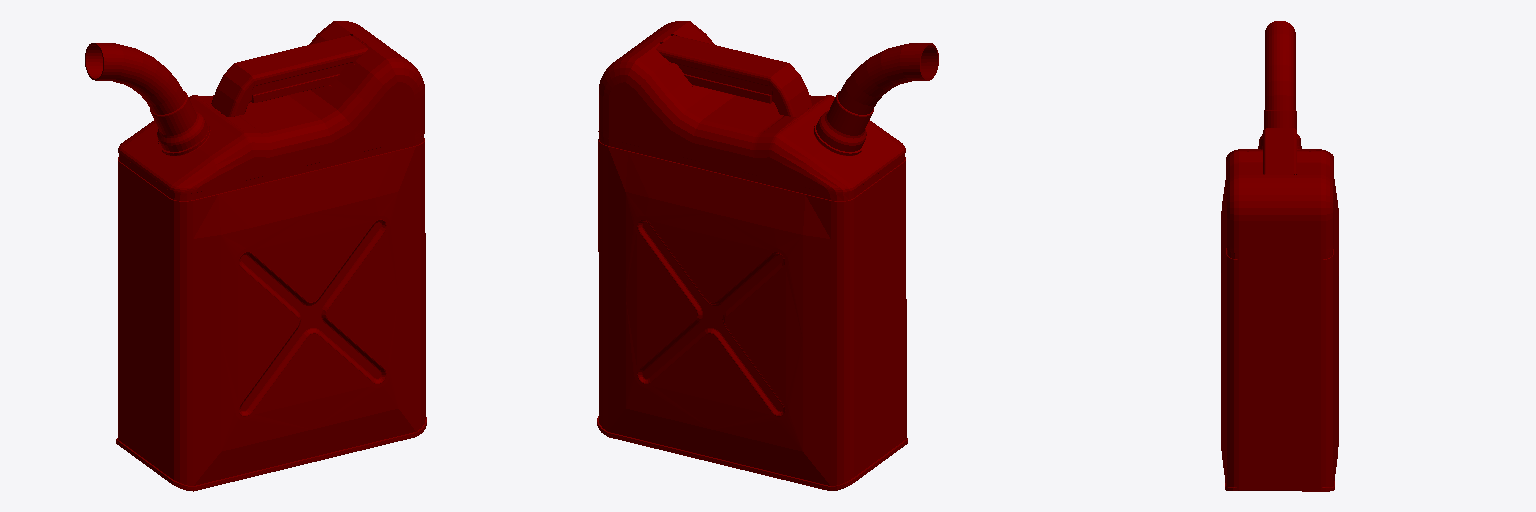
robot.urdf — apple:
<?xml version="1.0" encoding="utf-8"?>
<robot name="apple">
  <link name="base_link">
    <contact>
      <lateral_friction value="0.5"/>
      <rolling_friction value="0.0"/>
      <contact_cfm value="0.0"/>
      <contact_erp value="1.0"/>
    </contact>
    <inertial>
      <origin rpy="0 0 0" xyz="0 0 0"/>
      <mass value=".1"/>
      <inertia ixx="0" ixy="0" ixz="0" iyy="0" iyz="0" izz="0"/>
    </inertial>
    <visual>
      <origin rpy="1.57 0 0" xyz="0 0 0"/>
      <geometry>
        <mesh filename="models/meshes/gasoline/gasoline.obj" scale="8 8 8"/>
      </geometry>
      <material name="hi">
        <color rgba="0.5 0 0 1"/>
      </material>
    </visual>
    <collision>
      <origin rpy="1.57 0 0" xyz="0 0 0"/>
      <geometry>
        <mesh filename="models/meshes/gasoline/gasoline.obj" scale="8 8 8"/>
      </geometry>
    </collision>
  </link>
</robot>

--- Render facts (derived) ---
Views: 3 orthographic renders of the robot side by side, from view 1: azimuth 30°, elevation 25°; view 2: azimuth 150°, elevation 25°; view 3: azimuth 270°, elevation 25°.
Robot: apple — 1 links, 0 joints (none); root link base_link; default pose: every joint at zero.
Visible links, largest first — view 1: base_link; view 2: base_link; view 3: base_link.
Link boxes in pixels (<box>): base_link: <box>85,21,426,491</box>; base_link: <box>597,21,938,490</box>; base_link: <box>1221,21,1338,491</box>.
Bounding box of the posed robot: 0.4254 × 0.1751 × 0.5789 m (x, y, z).
Meshes: 1 distinct files referenced, 1 mesh visuals loaded (1 OBJ).